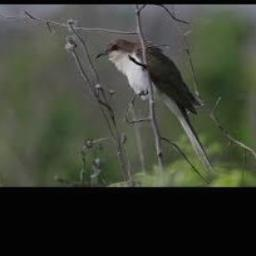Cuckoo: (95, 37, 215, 174)
